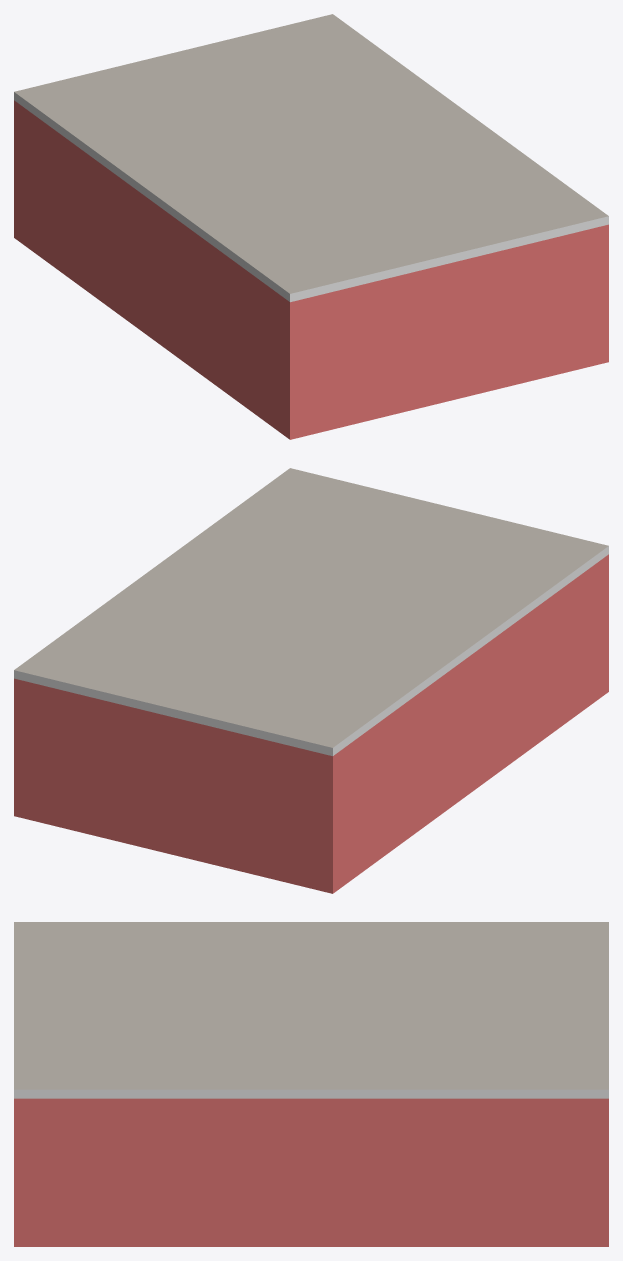
File: SmallStorey.fbx
3 renders of one model, top to bottom at view 1: azimuth 30°, elevation 25°; view 2: azimuth 150°, elevation 25°; view 3: azimuth 270°, elevation 25°, orthographic. The views are drawn at different scales.
Parts seen in each view (by area): view 1: SmallStorey; view 2: SmallStorey; view 3: SmallStorey.
Boxes of the visible parts, x1,y1,x2,y2 form: SmallStorey: [14, 14, 608, 439]; SmallStorey: [14, 468, 608, 893]; SmallStorey: [14, 922, 608, 1246].
Size of the model in its own units: 1600 by 700 by 2400.
